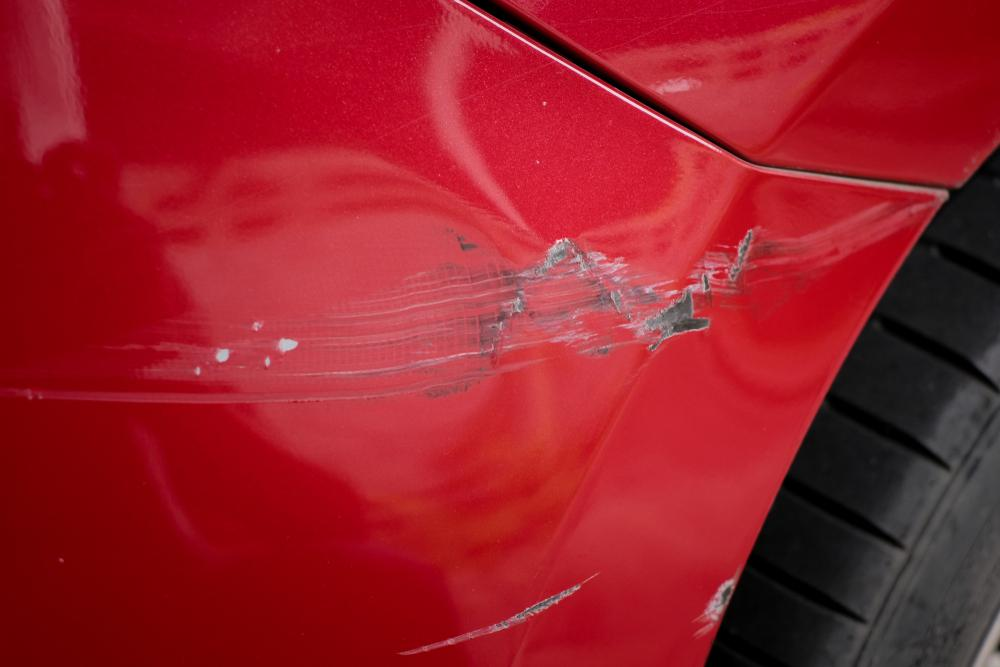scratch: (0, 197, 935, 420), (393, 573, 607, 662), (695, 567, 739, 638)
